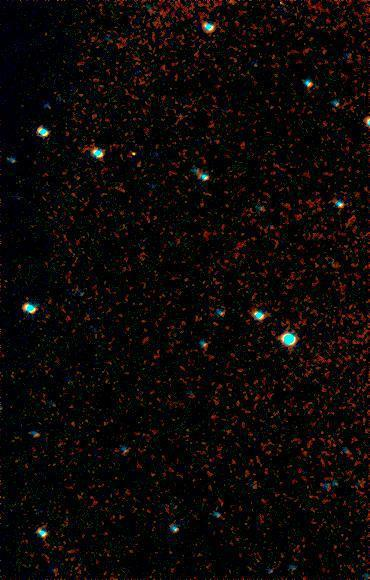star: (114, 133, 144, 163)
